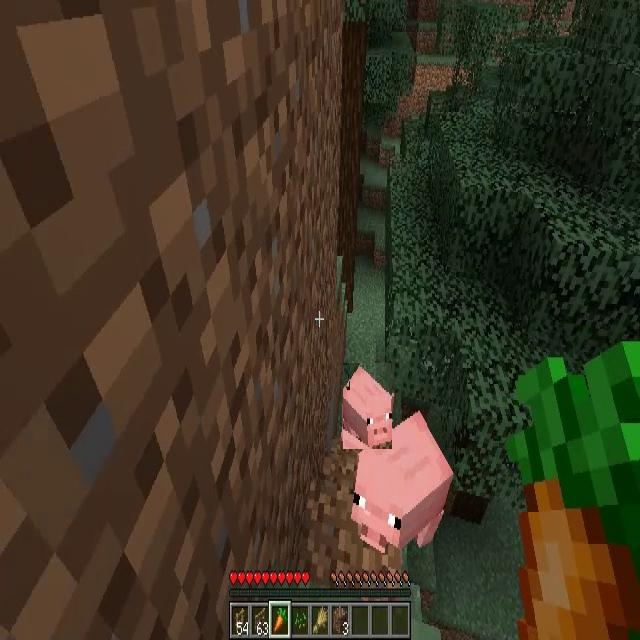pig: (351, 412, 452, 553), (343, 364, 392, 449)
